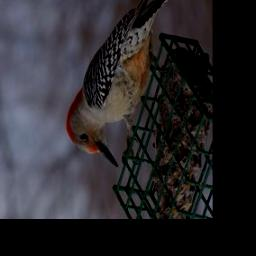Woodpecker: (66, 0, 168, 166)
